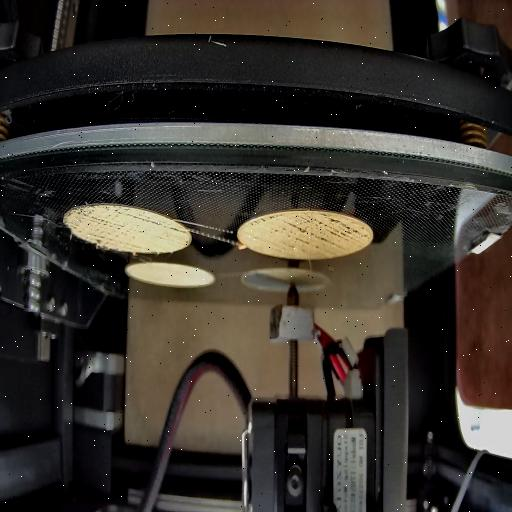under_extrusion: (246, 211, 370, 245), (72, 202, 126, 252), (127, 212, 185, 234)
